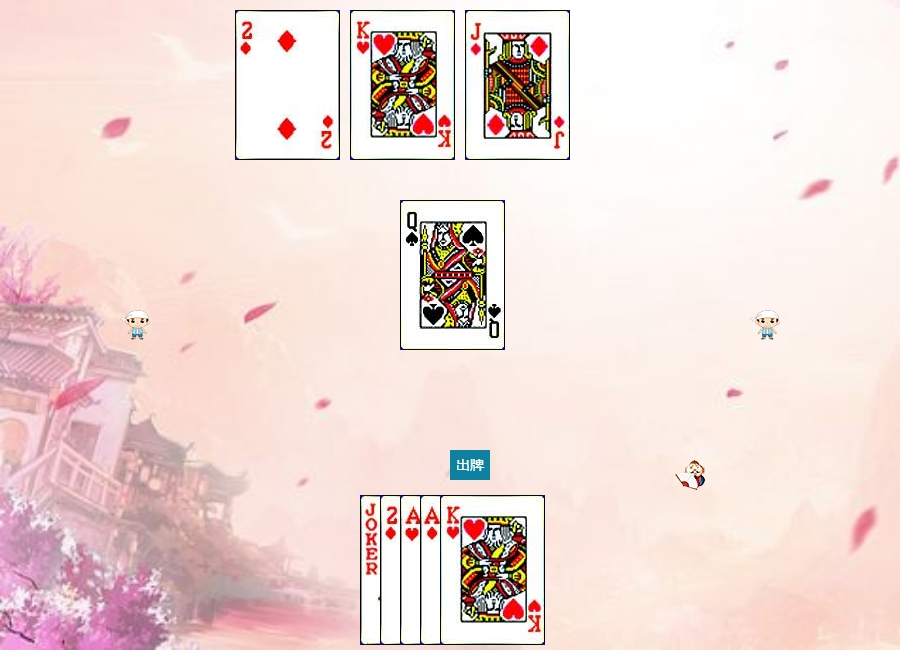11~1: (465, 10, 570, 160)
12~4: (400, 200, 505, 350)
13~3: (350, 10, 455, 160), (440, 495, 545, 645)
14~1: (420, 495, 525, 645)
14~3: (400, 495, 505, 645)
15~1: (235, 10, 340, 160), (380, 495, 485, 645)
18~4: (360, 495, 465, 645)
